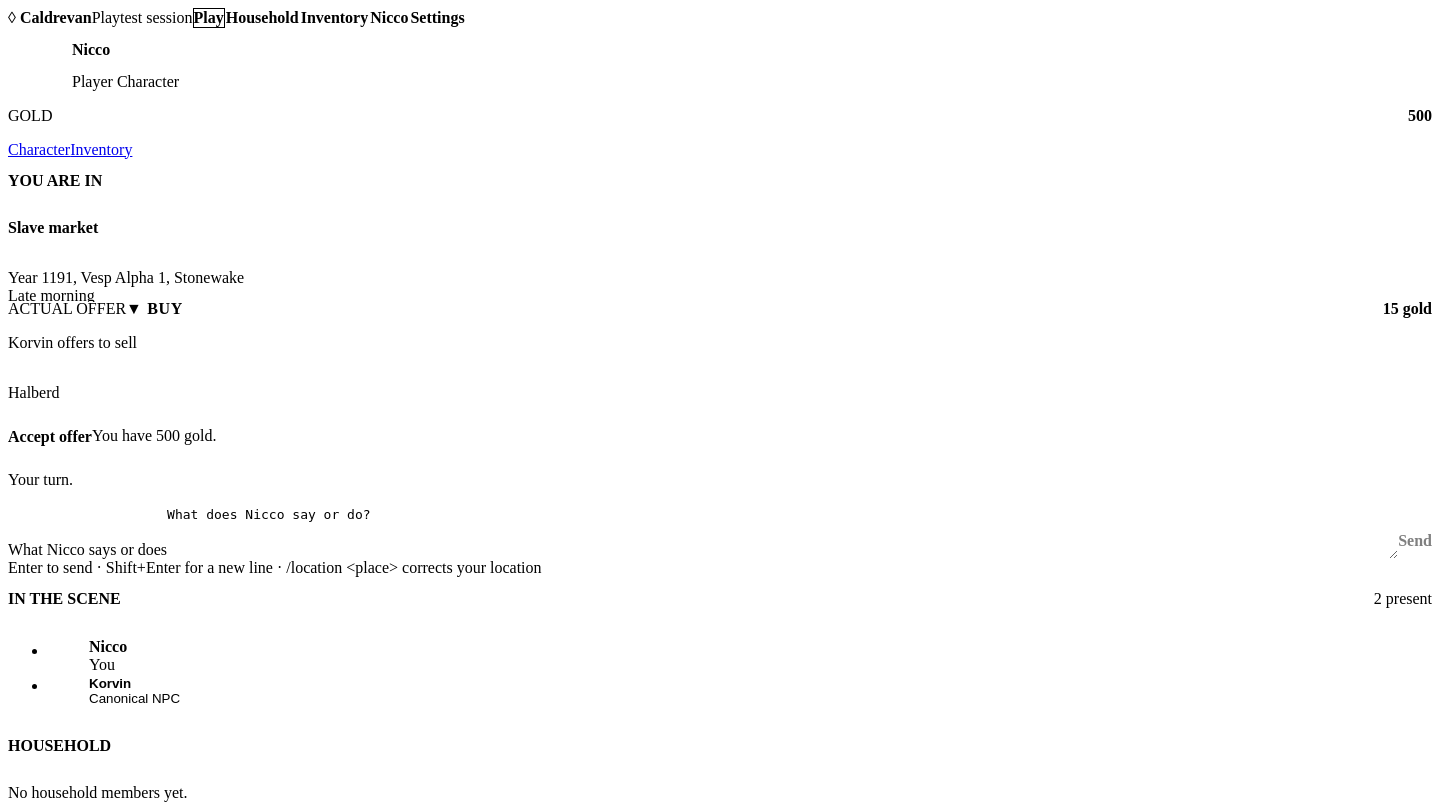
Test case: PlayScreen › accepts an Actual Offer with only the ref and the rendered revision, then shows the receipt and the new gold
(page scrolled)
Click the button with aria-label "Accept offer: Buy Halberd for 15 gold".
click(50, 436)  # box left=8, top=418, right=92, bottom=454
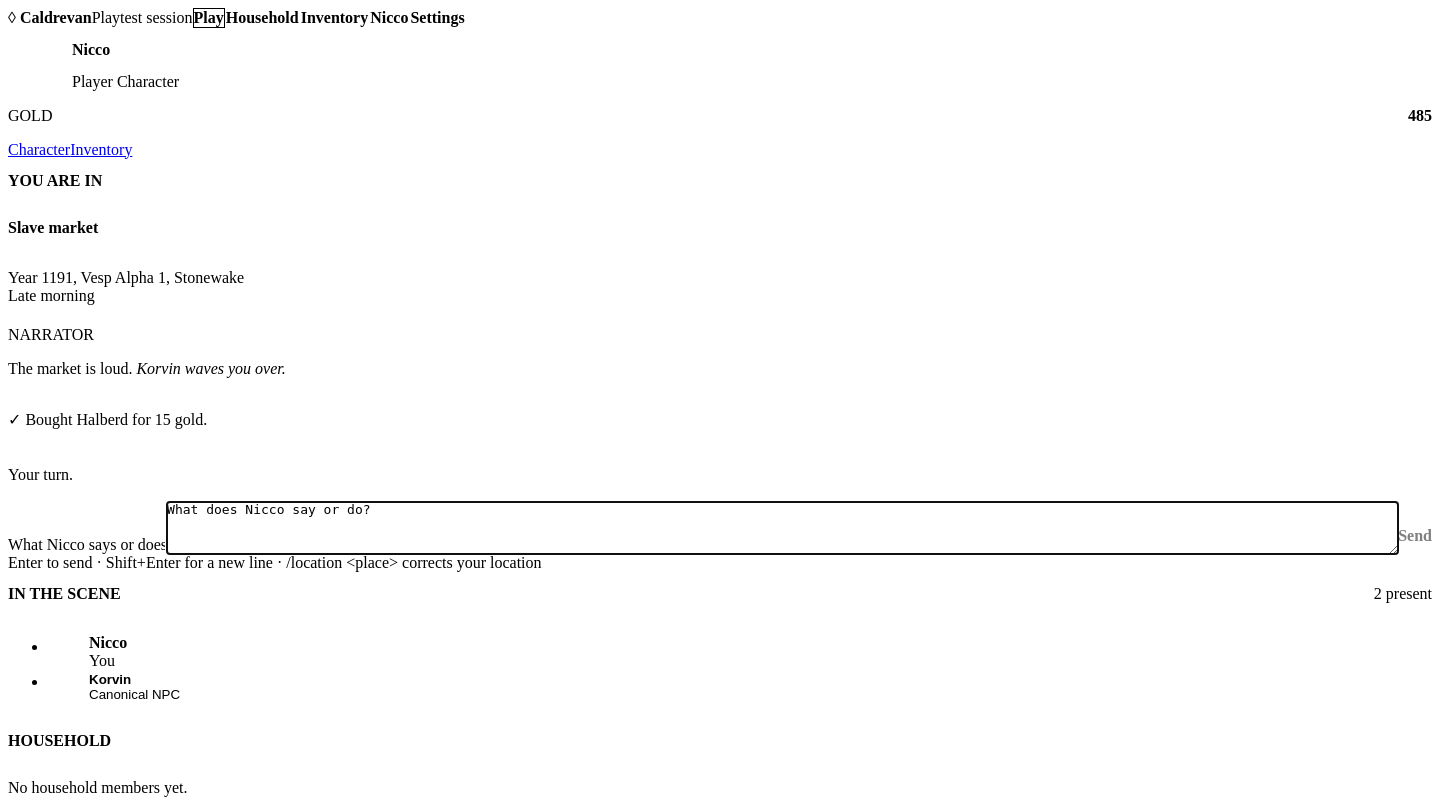
Result: the text "✓ Bought Halberd for 15 gold." is shown at left=8, top=411, right=207, bottom=428
Result: the text with test id "player-gold" reads "485" at left=1408, top=106, right=1432, bottom=124
